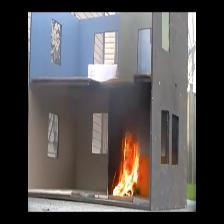fire: (113, 143, 141, 197)
smoke: (112, 90, 147, 116)
